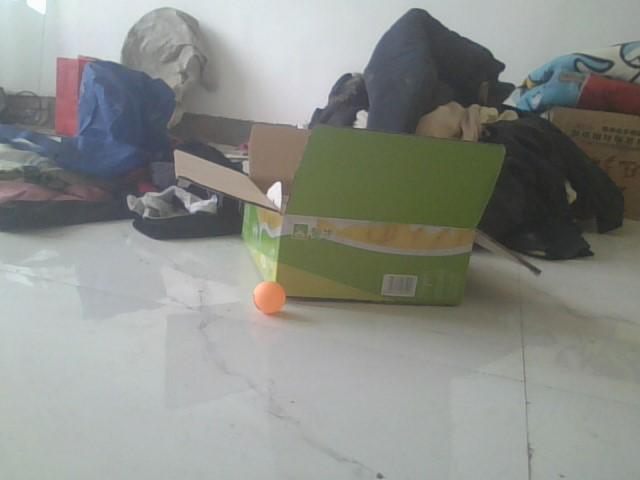ball: (253, 284, 286, 315)
